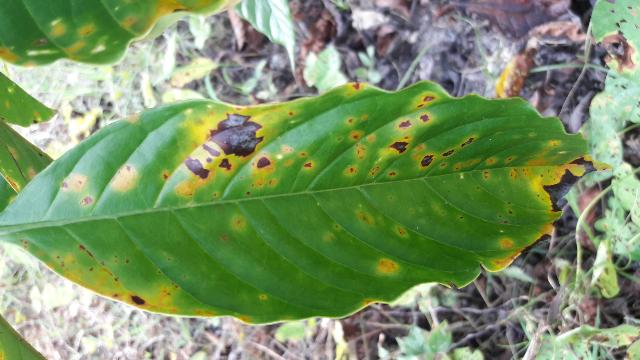rust_level_3: (2, 80, 611, 325)
